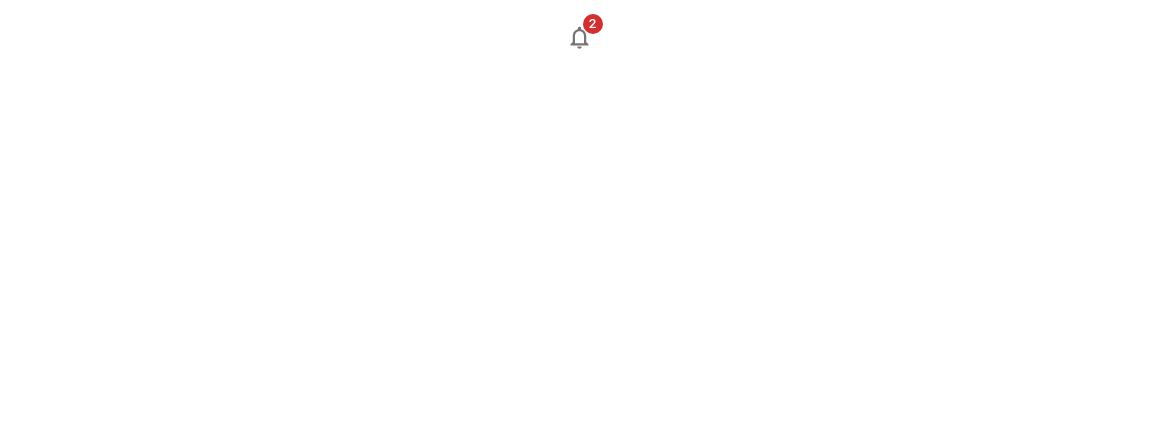
Test case: Notifications › notifies event participants when a time vote has ended
Click the button named "notifications": (579, 38) [16, 12, 1142, 63]
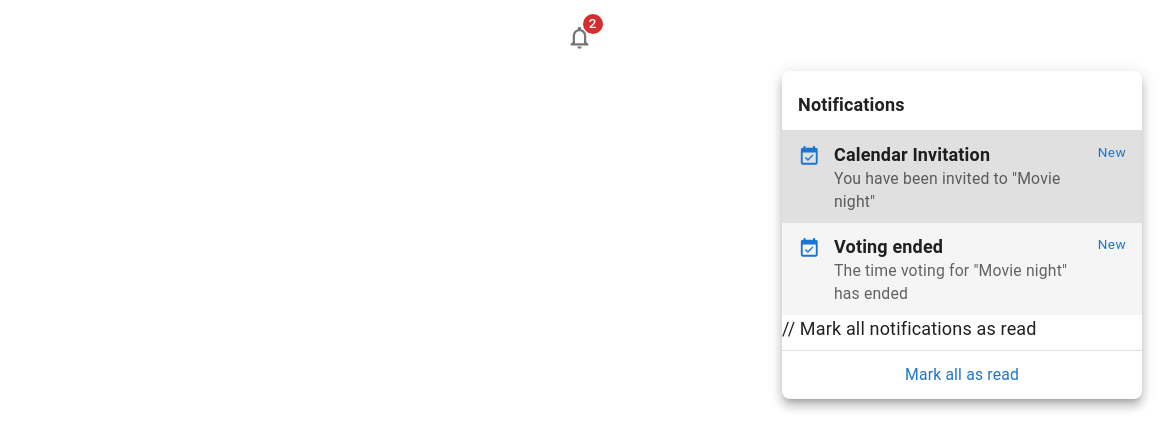
Expected: the text "Voting ended" is shown, [834, 236, 943, 257]
Expected: the text "The time voting for \"Movie night\" has ended" is shown, [834, 260, 1090, 305]
